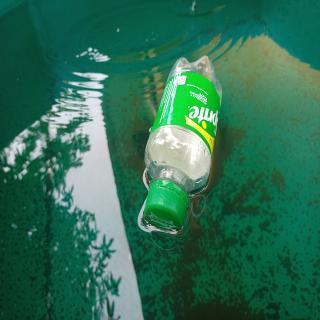bottle: (141, 49, 224, 232)
